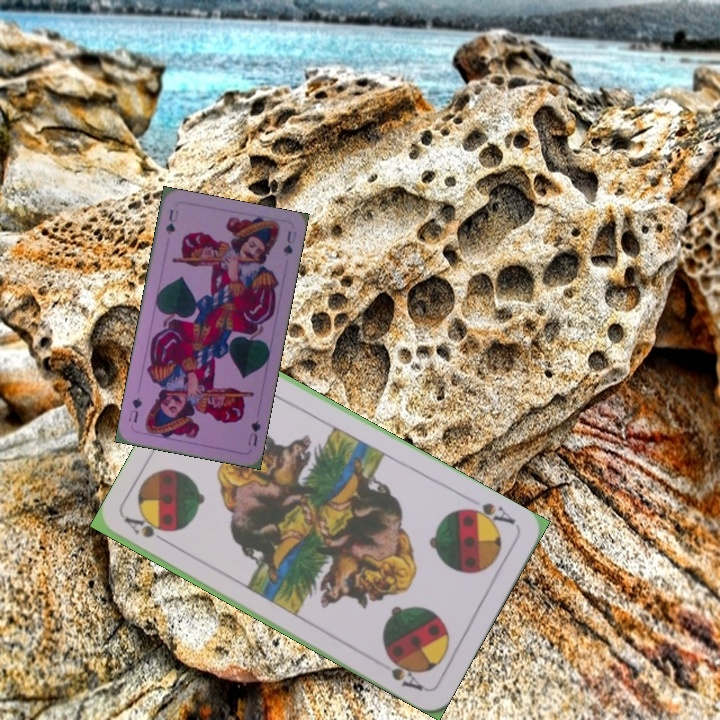GU: (161, 205, 181, 237), (244, 416, 263, 449)
SA: (121, 513, 175, 549), (460, 498, 518, 531)
